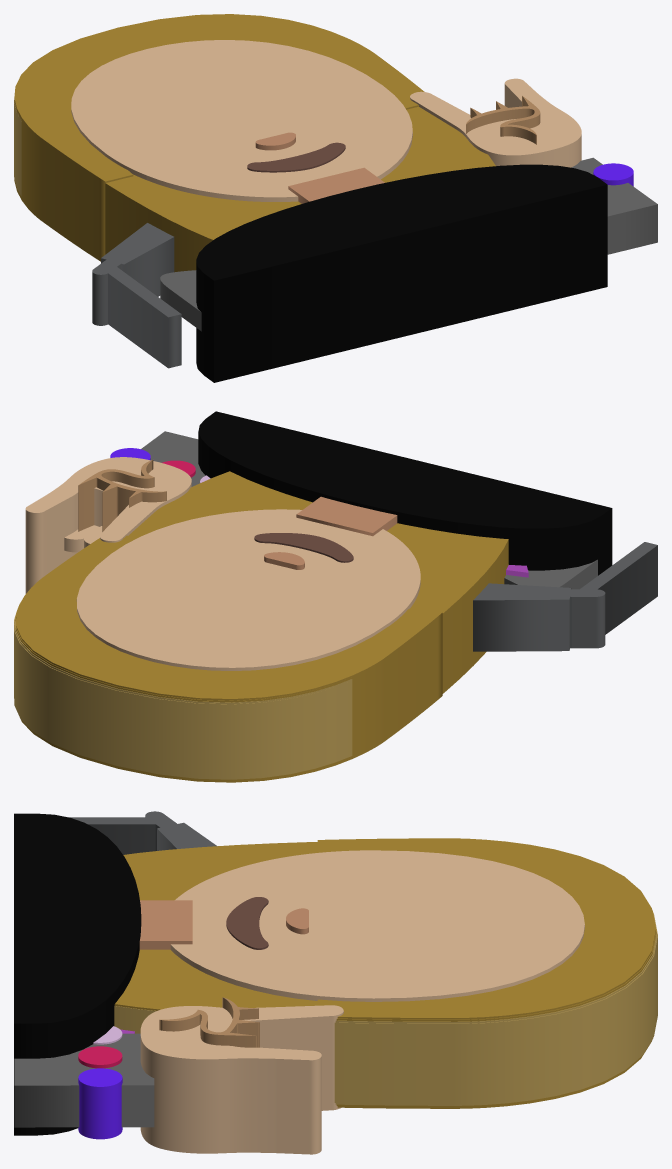
The model's file is emoji_u1f469_1f3fc_200d_1f3a4.glb.
The picture shows the model from 3 angles, top to bottom: view 1: azimuth 30°, elevation 25°; view 2: azimuth 150°, elevation 25°; view 3: azimuth 270°, elevation 25°; orthographic projection. The views are drawn at different scales.
Parts seen in each view (by area): view 1: emoji_u1f469_1f3fc_200d_1f3a4; view 2: emoji_u1f469_1f3fc_200d_1f3a4; view 3: emoji_u1f469_1f3fc_200d_1f3a4.
Boxes of the visible parts, x1,y1,x2,y2 form: emoji_u1f469_1f3fc_200d_1f3a4: [14, 14, 657, 382]; emoji_u1f469_1f3fc_200d_1f3a4: [14, 411, 657, 782]; emoji_u1f469_1f3fc_200d_1f3a4: [14, 811, 657, 1154].
Size of the model in its own units: 0.0336 by 0.0066 by 0.0334.
